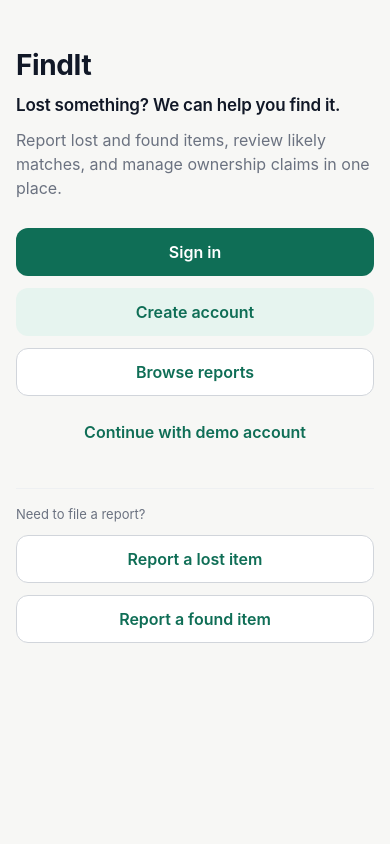
Test case: authentication flow › rejects an invalid email on the sign-in form
This screenshot has width=390, height=844.
Expected: the text "Restoring your session" is not shown
Step 1. Click the button "Sign in" → [195, 252], box [16,228,374,276]
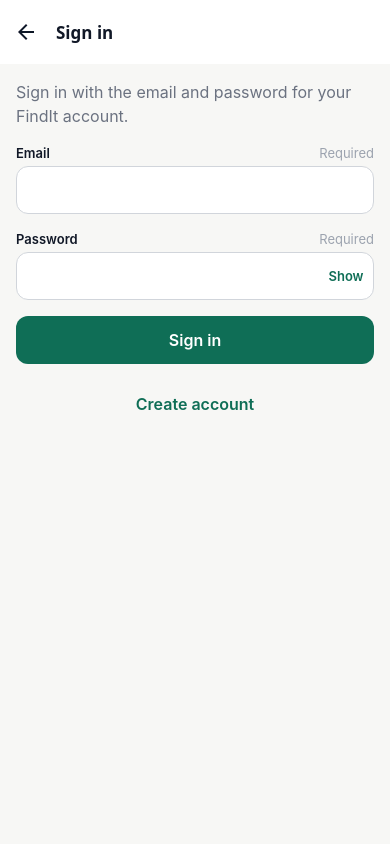
Step 2. Type "not-an-email" into the field named "Email" → [195, 190], box [16,166,374,214]
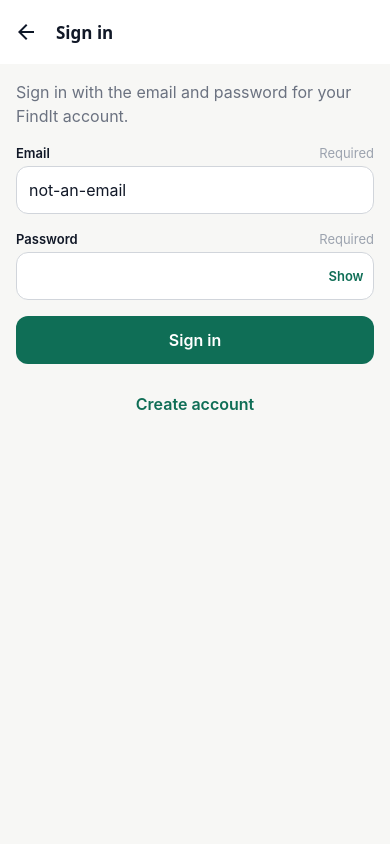
Step 3. Type "password12" into the password field named "Password" → [195, 276], box [16,252,374,300]
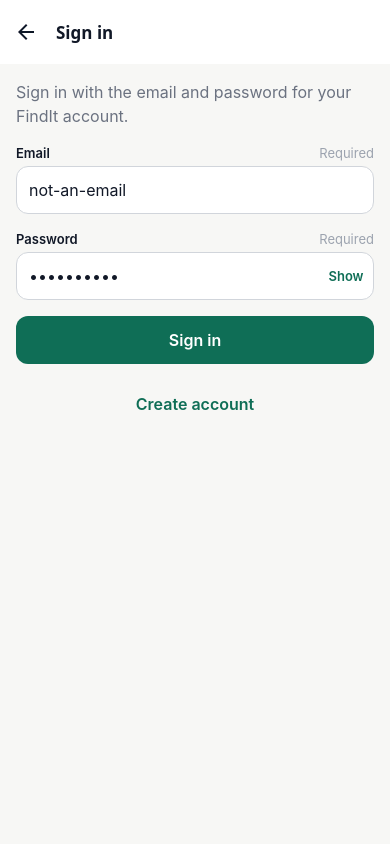
Step 4. Click the button "Sign in" → [195, 340], box [16,316,374,364]
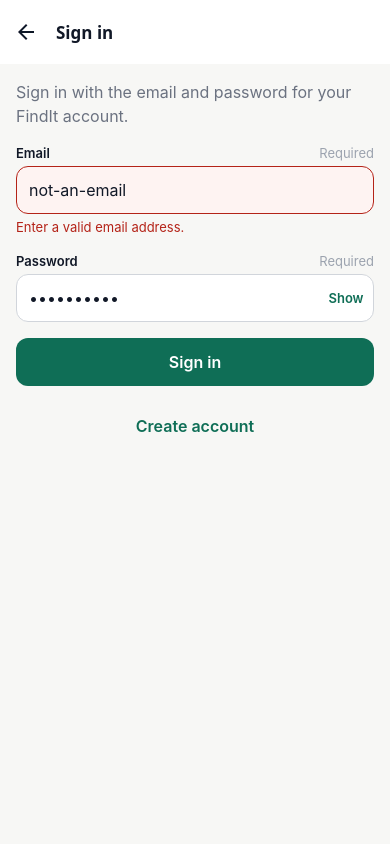
Now the text "Enter a valid email address." is shown, box [16,219,184,235]
